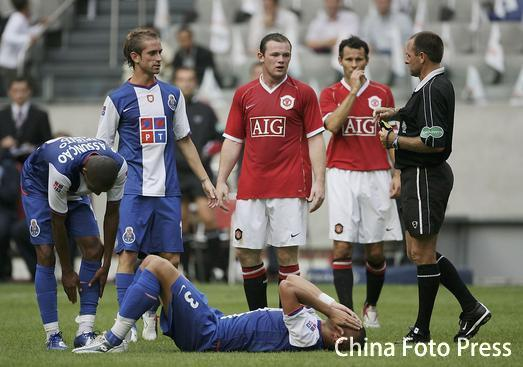bending: (15, 130, 135, 355)
down: (76, 248, 369, 351)
up: (382, 25, 497, 354), (97, 19, 214, 323), (221, 26, 323, 315), (317, 28, 402, 332)
